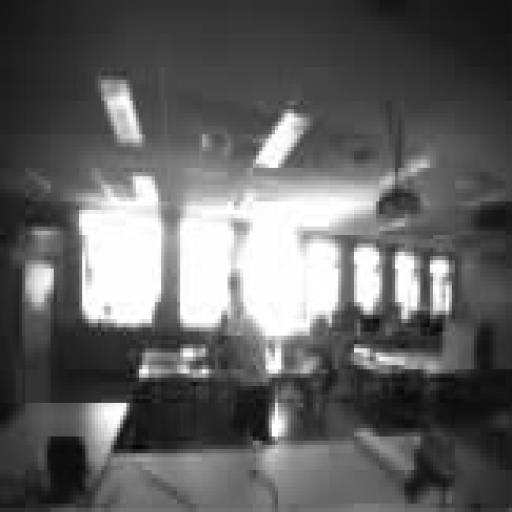human: (219, 273, 271, 440)
